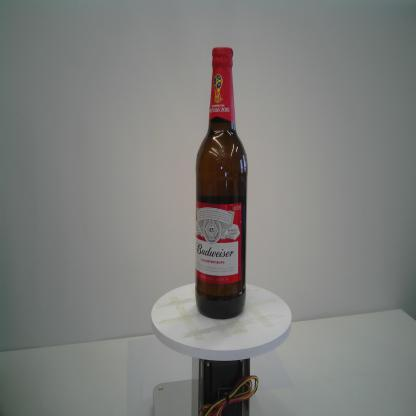Alcohol: (194, 45, 249, 321)
